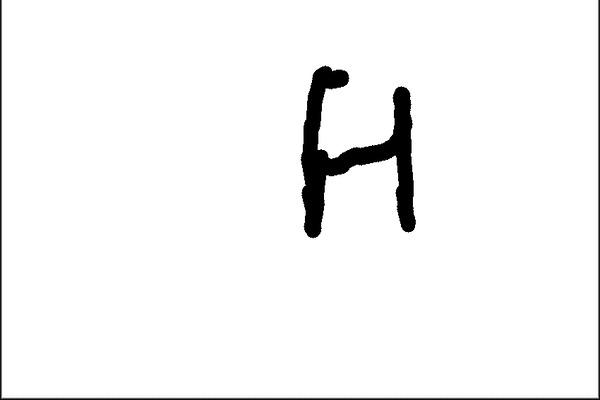H: (296, 61, 427, 239)
